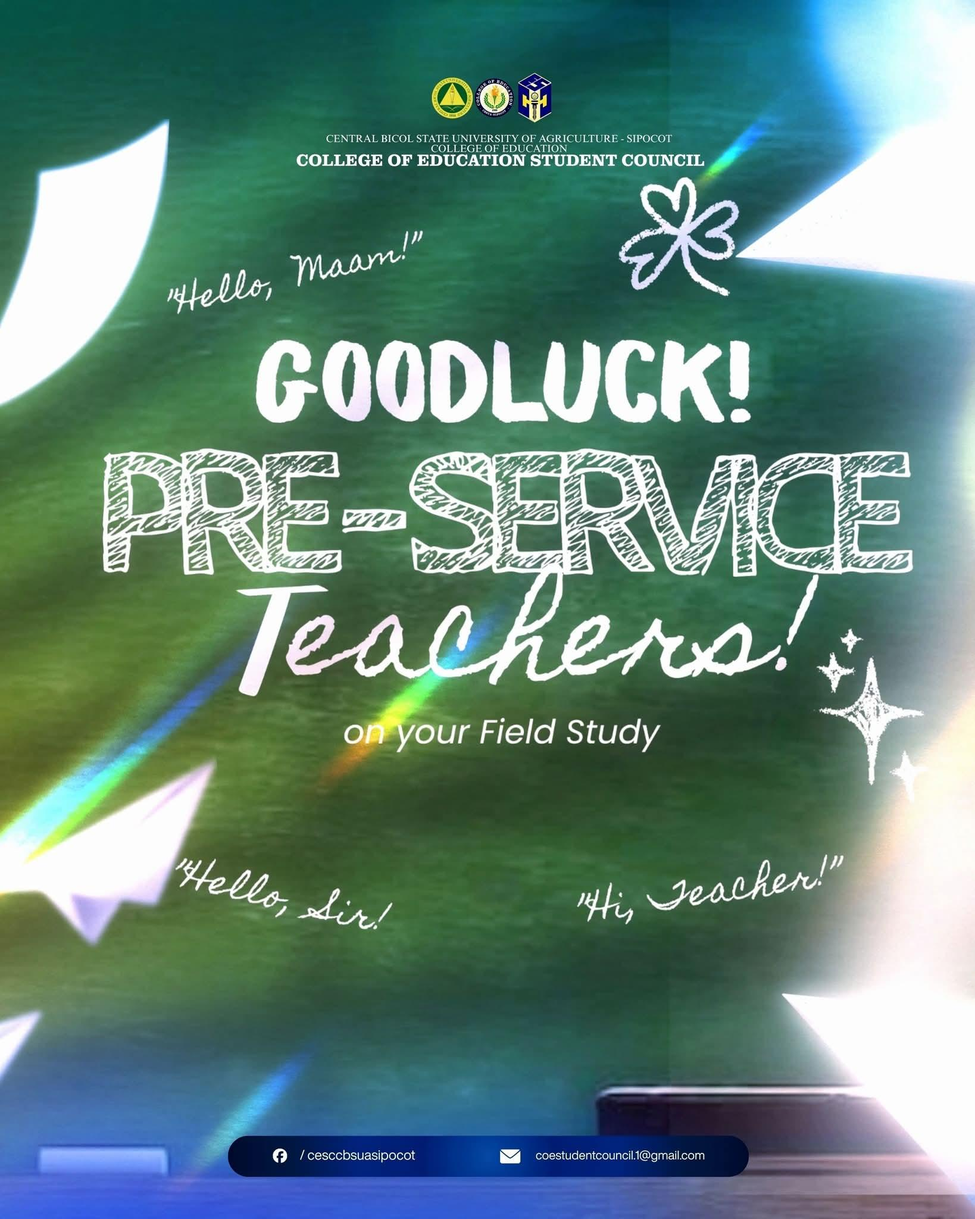embellishment: (0, 644, 250, 950), (812, 618, 936, 811), (615, 171, 744, 303), (498, 1145, 522, 1166), (269, 1145, 290, 1164)
logo: (513, 70, 556, 126), (429, 74, 474, 121), (474, 76, 514, 120)
text: (92, 443, 923, 581), (226, 564, 823, 707), (250, 335, 758, 431), (158, 221, 432, 326), (570, 837, 854, 938), (154, 839, 414, 944), (292, 127, 711, 170), (337, 713, 668, 757), (532, 1148, 710, 1165), (296, 1145, 417, 1165)
underlay: (227, 1134, 750, 1178)
